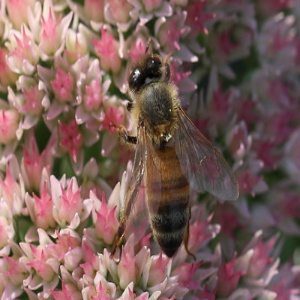bee: (119, 55, 239, 267)
